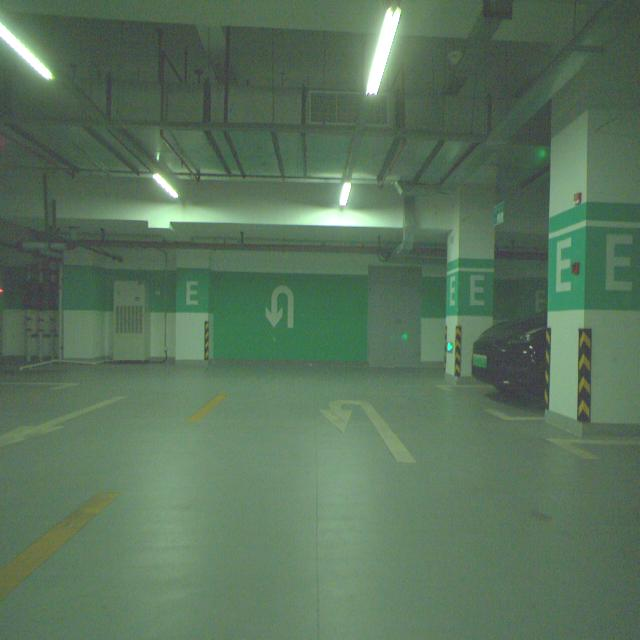pillar: (545, 107, 640, 431), (445, 189, 495, 377)
